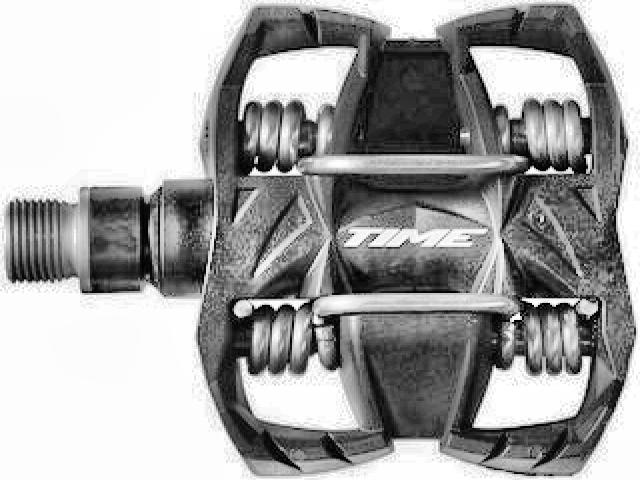pedal: (8, 3, 637, 474)
